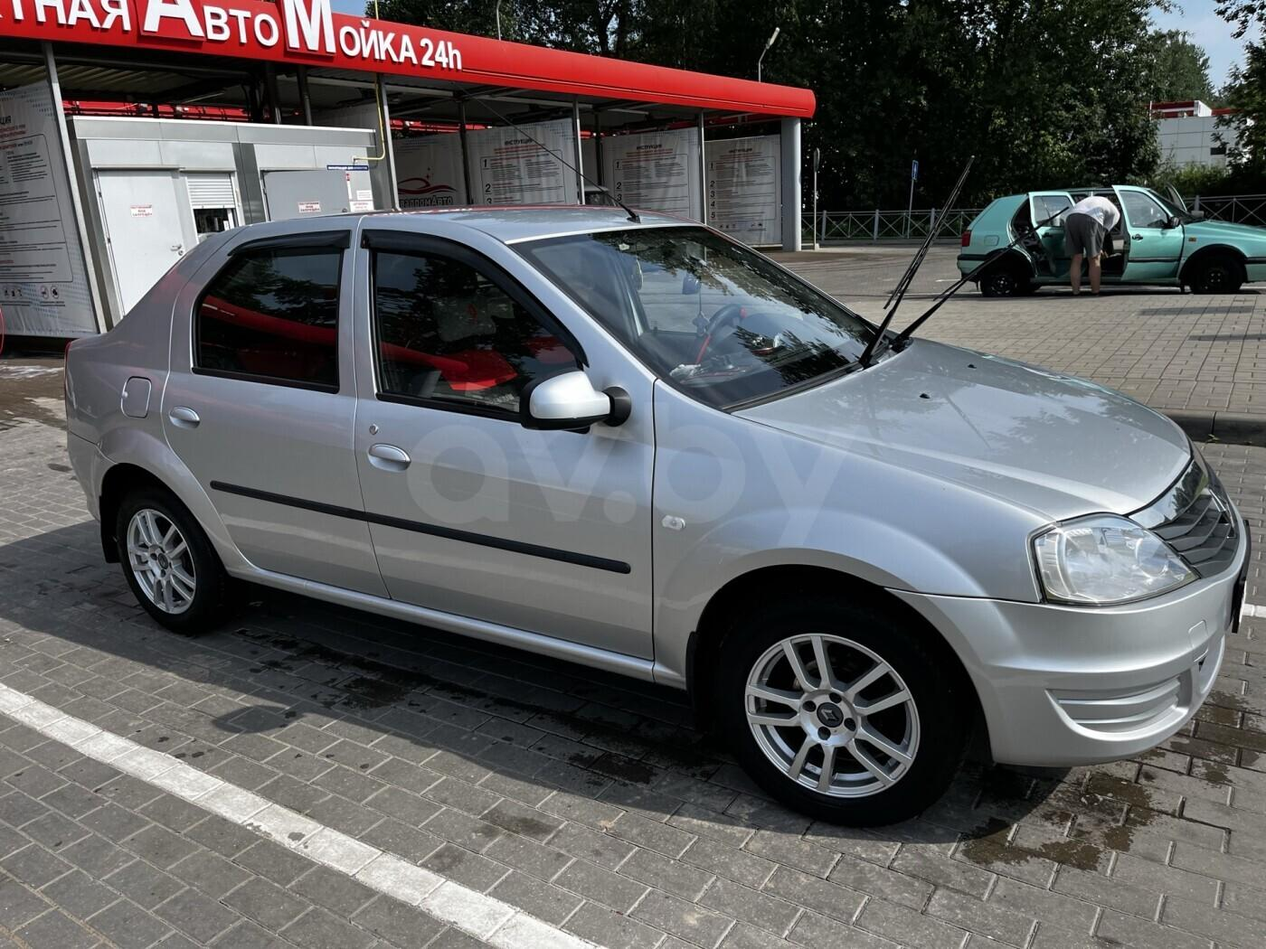Logan_2008-2015: (62, 204, 1241, 822)
